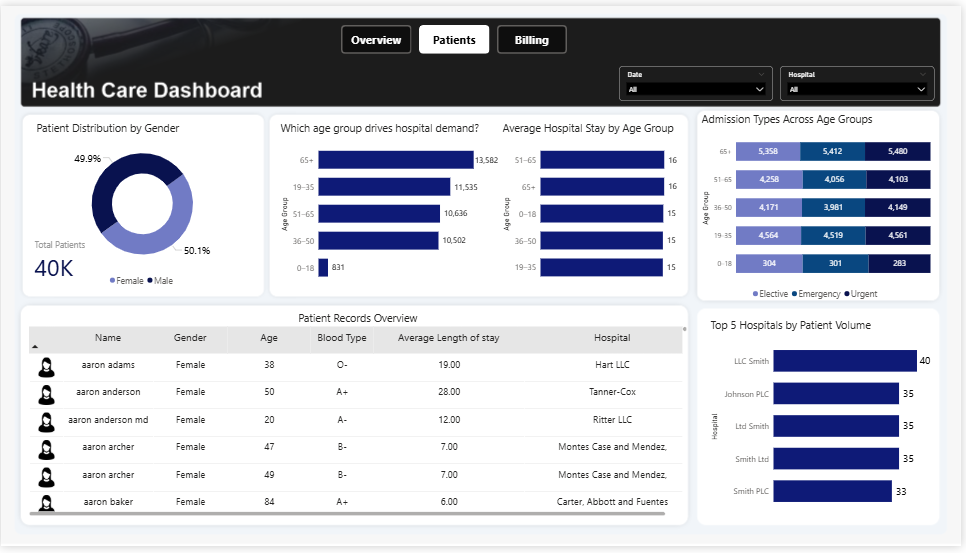

What the dashboard file says about the page in this screenshot:
{"tool":"powerbi","page":{"name":"Patients","canvas":[1920,1080],"ordinal":1},"visuals":[{"type":"cardVisual","fields":{"Data":["Dax.Total Patients"]},"box":[50,448.3,141.7,121.7],"z":0},{"type":"donutChart","title":"Patient Distribution by Gender","fields":{"Category":["healthcare_db healthcare_new.Gender"],"Y":["Dax.Total Patients"]},"box":[65,228.3,433.3,341.7],"z":1000},{"type":"barChart","title":"Average Hospital Stay by Age Group","fields":{"Category":["healthcare_db healthcare_new.Age group"],"Y":["Dax.Average Length of stay"]},"box":[998.8,228.8,362.5,341.2],"z":2000},{"type":"clusteredBarChart","title":"Which age group drives hospital demand?","fields":{"Category":["healthcare_db healthcare_new.Age group"],"Y":["Dax.Total Patients"]},"box":[553.3,228.3,445,341.7],"z":3000},{"type":"hundredPercentStackedBarChart","title":"Admission Types Across Age Groups","fields":{"Category":["healthcare_db healthcare_new.Age Group"],"Y":["Dax.Total Admissions"],"Series":["healthcare_db healthcare_new.Admission Type"]},"box":[1395,210,468.3,386.7],"z":4000},{"type":"tableEx","title":"Patient Records Overview","fields":{"Values":["healthcare_db healthcare_new.img","healthcare_db healthcare_new.Name","healthcare_db healthcare_new.Gender","healthcare_db healthcare_new.Age","healthcare_db healthcare_new.Blood Type","Dax.Average Length of stay","healthcare_db healthcare_new.Hospital"]},"box":[50,608.3,1326.7,416.7],"z":5000},{"type":"clusteredBarChart","title":"Top 5 Hospitals by Patient Volume","fields":{"Category":["healthcare_db healthcare_new.Hospital"],"Y":["Dax.Total Patients"]},"box":[1413.3,621.7,450,403.3],"z":6000},{"type":"slicer","fields":{"Values":["healthcare_db healthcare_new.Hospital"]},"box":[1558.8,120,308.8,70],"z":7000},{"type":"slicer","fields":{"Values":["Date.Date.Variation.Date Hierarchy.Year","Date.Date.Variation.Date Hierarchy.Quarter","Date.Date.Variation.Date Hierarchy.Month","Date.Date.Variation.Date Hierarchy.Day"]},"box":[1236,120,308,70],"z":8000},{"type":"actionButton","box":[679,37.2,141.2,57.5],"z":9000},{"type":"actionButton","box":[835.2,37.2,141.2,57.5],"z":10000},{"type":"actionButton","box":[992.3,37.7,140,57.5],"z":11000}]}

Visuals, with their boxes in screenshot pixels (x1, y1, x2, y2), scaled from the page's 1920x1080 canvas onto the 966x553 screenshot:
cardVisual - Dax.Total Patients: [left=25, top=230, right=96, bottom=292]
"Patient Distribution by Gender" donutChart: [left=33, top=117, right=251, bottom=292]
"Average Hospital Stay by Age Group" barChart: [left=503, top=117, right=685, bottom=292]
"Which age group drives hospital demand?" clusteredBarChart: [left=278, top=117, right=502, bottom=292]
"Admission Types Across Age Groups" hundredPercentStackedBarChart: [left=702, top=108, right=937, bottom=306]
"Patient Records Overview" tableEx: [left=25, top=311, right=693, bottom=525]
"Top 5 Hospitals by Patient Volume" clusteredBarChart: [left=711, top=318, right=937, bottom=525]
slicer - healthcare_db healthcare_new.Hospital: [left=784, top=61, right=940, bottom=97]
slicer - Date.Date.Variation.Date Hierarchy.Year x Date.Date.Variation.Date Hierarchy.Quarter: [left=622, top=61, right=777, bottom=97]
actionButton: [left=342, top=19, right=413, bottom=48]
actionButton: [left=420, top=19, right=491, bottom=48]
actionButton: [left=499, top=19, right=570, bottom=49]
